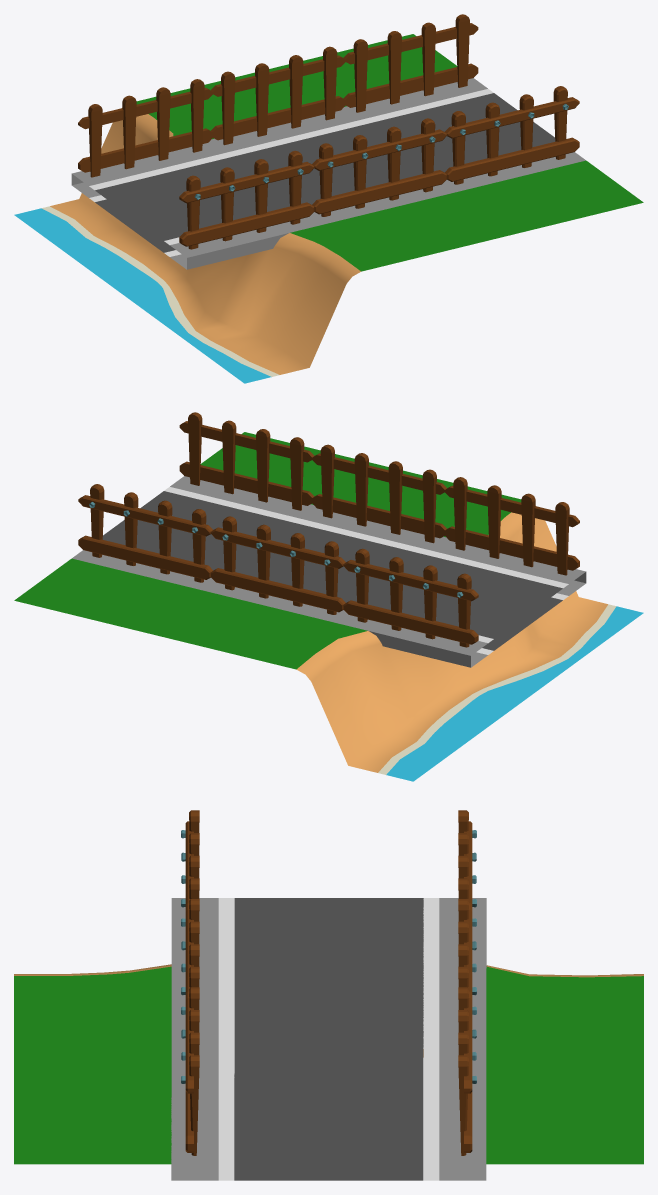
The model's file is Bridge-Little-Side.fbx.
The picture shows the model from 3 angles, top to bottom: view 1: azimuth 30°, elevation 25°; view 2: azimuth 150°, elevation 25°; view 3: azimuth 270°, elevation 25°; orthographic projection. The views are drawn at different scales.
Visible parts, largest first — view 1: BridgeLittleSideWhitelines, Beach-1_Terrain.001, Beach-1_Sand.001, BridgeLittleSide, BridgeLittleSideSidewalk, Beach-1_Water.001, Beach-1_Seashore.001; view 2: BridgeLittleSideWhitelines, Beach-1_Terrain.001, Beach-1_Sand.001, BridgeLittleSide, BridgeLittleSideSidewalk, Beach-1_Water.001, Beach-1_Seashore.001; view 3: Beach-1_Terrain.001, BridgeLittleSide, BridgeLittleSideWhitelines, BridgeLittleSideSidewalk, Beach-1_Sand.001.
Boxes of the visible parts, x1,y1,x2,y2 form: BridgeLittleSideWhitelines: (78, 14, 579, 256); Beach-1_Terrain.001: (136, 34, 643, 271); Beach-1_Sand.001: (50, 114, 360, 374); BridgeLittleSide: (95, 93, 555, 252); BridgeLittleSideSidewalk: (71, 78, 585, 269); Beach-1_Water.001: (14, 208, 271, 383); Beach-1_Seashore.001: (41, 206, 279, 376); BridgeLittleSideWhitelines: (78, 412, 579, 654); Beach-1_Terrain.001: (14, 432, 521, 669); Beach-1_Sand.001: (296, 512, 607, 772); BridgeLittleSide: (102, 491, 562, 650); BridgeLittleSideSidewalk: (72, 476, 586, 667); Beach-1_Water.001: (386, 606, 643, 781); Beach-1_Seashore.001: (378, 604, 616, 774); Beach-1_Terrain.001: (14, 966, 643, 1164); BridgeLittleSide: (234, 898, 423, 1180); BridgeLittleSideWhitelines: (181, 810, 476, 1180); BridgeLittleSideSidewalk: (171, 898, 486, 1180); Beach-1_Sand.001: (14, 964, 643, 1057).
Bounding box in the file's own units: 20 × 7.39 × 20.
